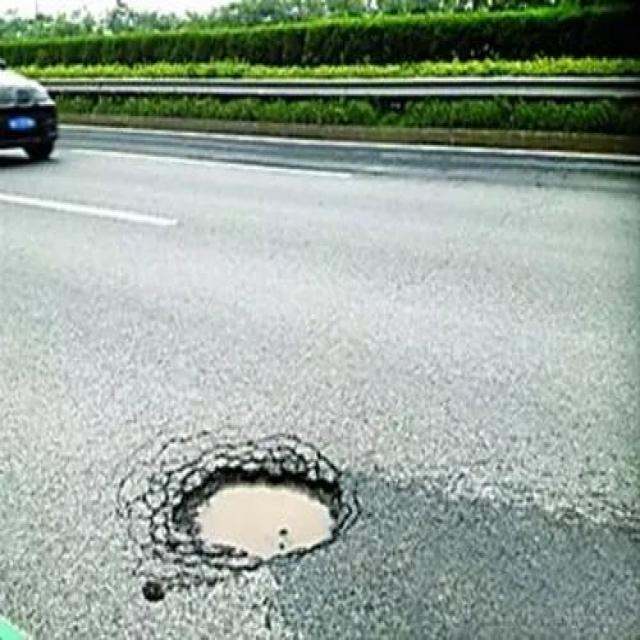pothole: (133, 437, 359, 575)
